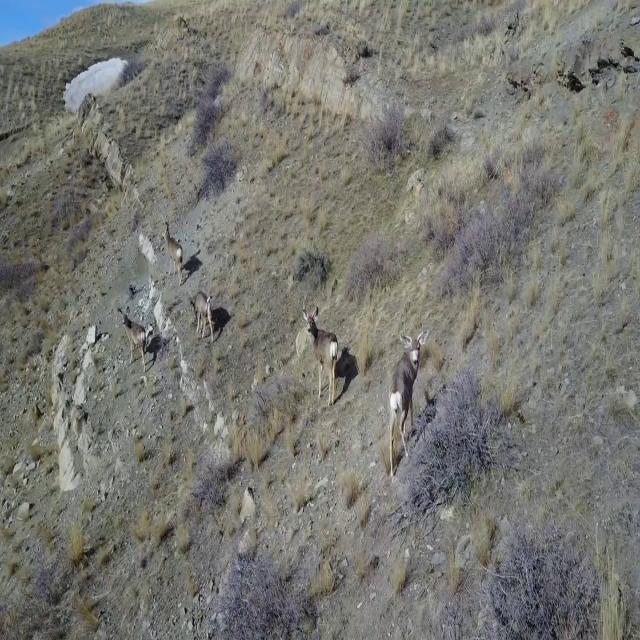Deer: (388, 330, 429, 478), (302, 297, 342, 405), (115, 301, 153, 378), (159, 214, 187, 286), (188, 286, 216, 342)
